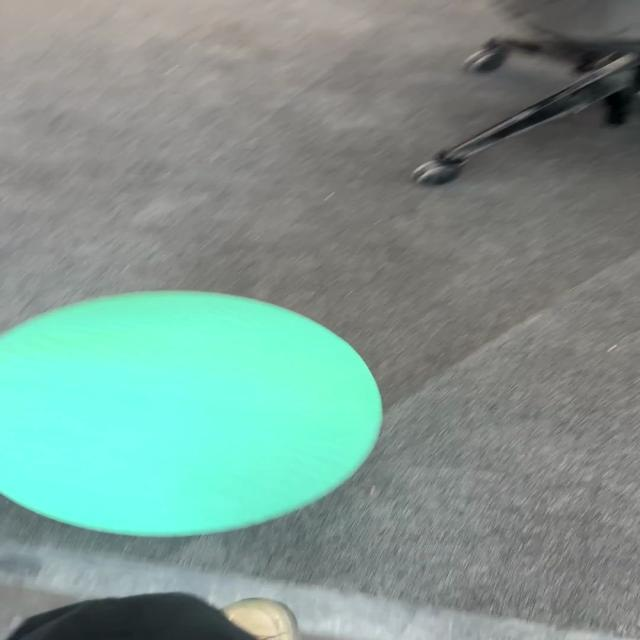Algae: (1, 289, 384, 538)
